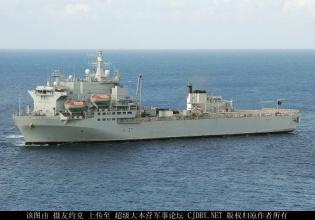warship: (13, 54, 304, 148)
